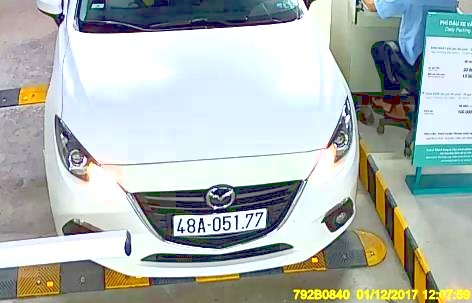plate: (171, 203, 269, 234)
